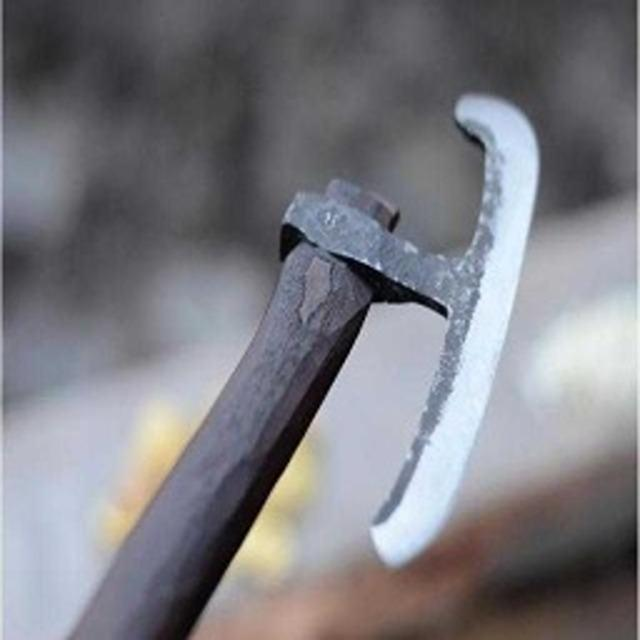ax: (70, 76, 554, 640)
